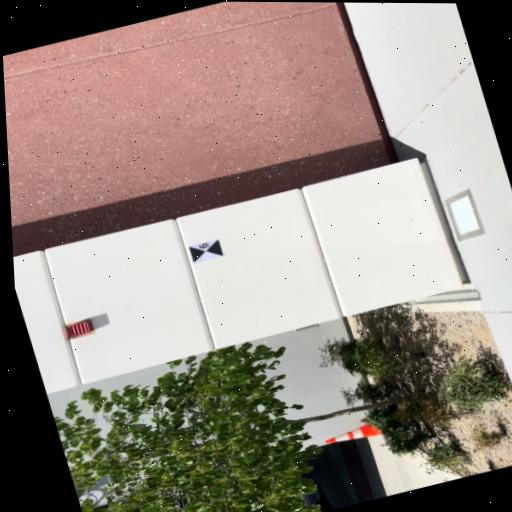target6: (189, 239, 226, 263)
